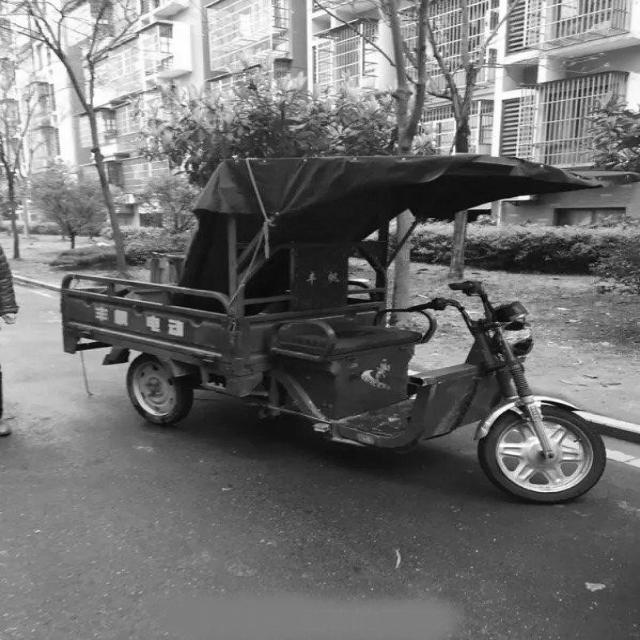tricycle: (61, 150, 630, 512)
